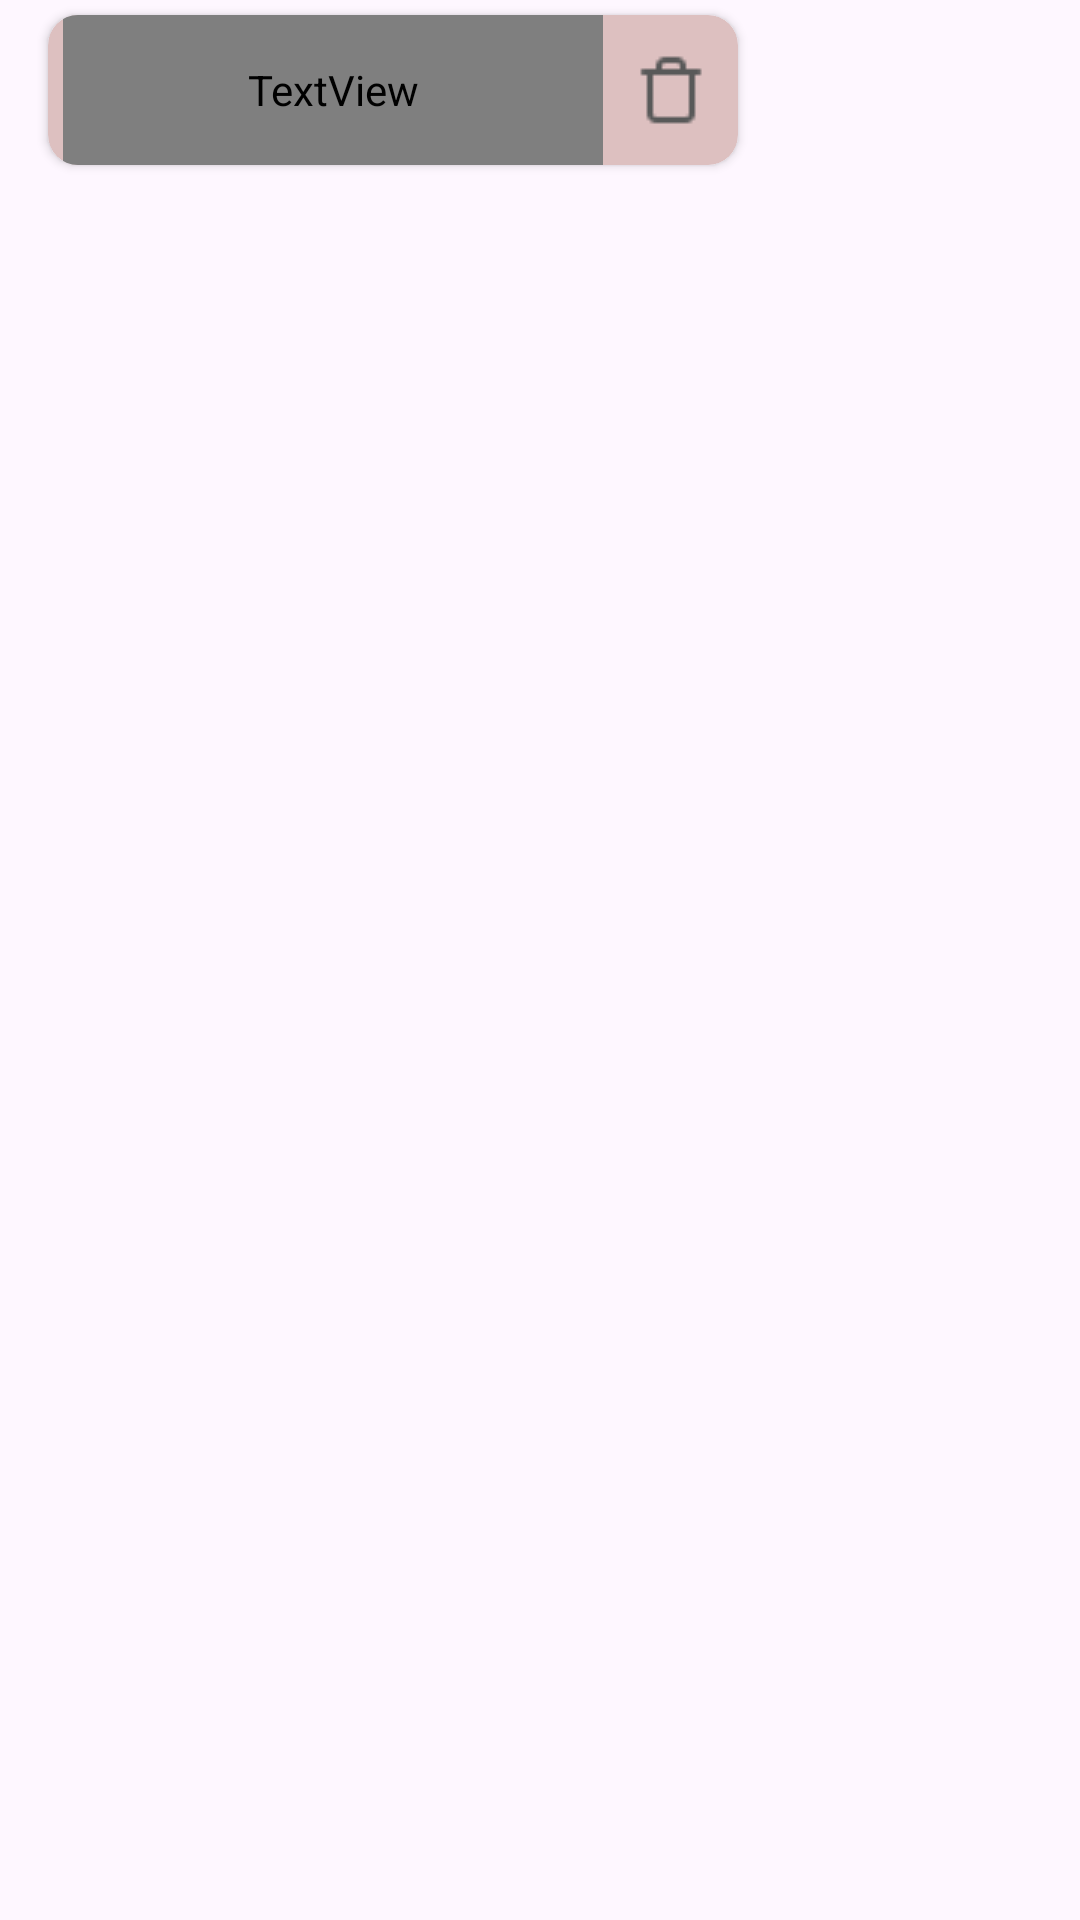

Icon bounding boxes for this 1080 × 1920 phone screenshot, format (x1, y1, x2, y2):
trash: (603, 15, 738, 165)
